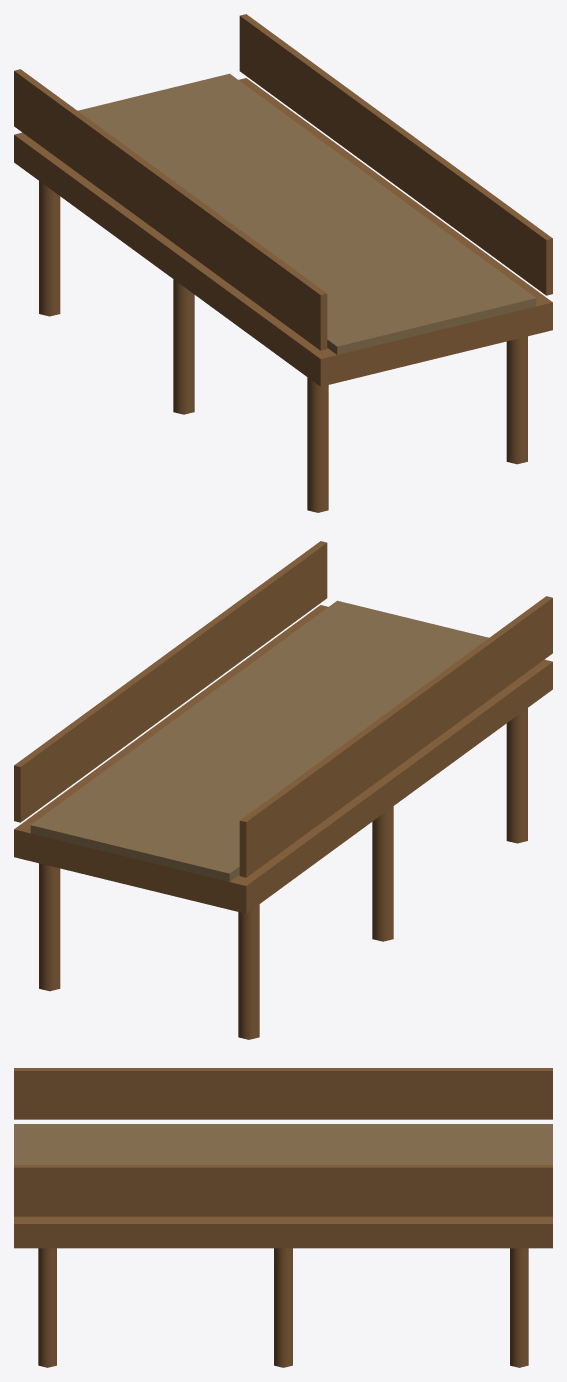
The model's file is road_dirt_bridge_lod1.glb.
The picture shows the model from 3 angles, top to bottom: view 1: azimuth 30°, elevation 25°; view 2: azimuth 150°, elevation 25°; view 3: azimuth 270°, elevation 25°; orthographic projection. The views are drawn at different scales.
Parts seen in each view (by area): view 1: body; view 2: body; view 3: body.
Part boxes in pixels (bbox=[...]): body: bbox=[14, 14, 552, 512]; body: bbox=[14, 541, 552, 1039]; body: bbox=[14, 1068, 552, 1367].
Bounding box in the file's own units: 3.5 × 3.32 × 8.
